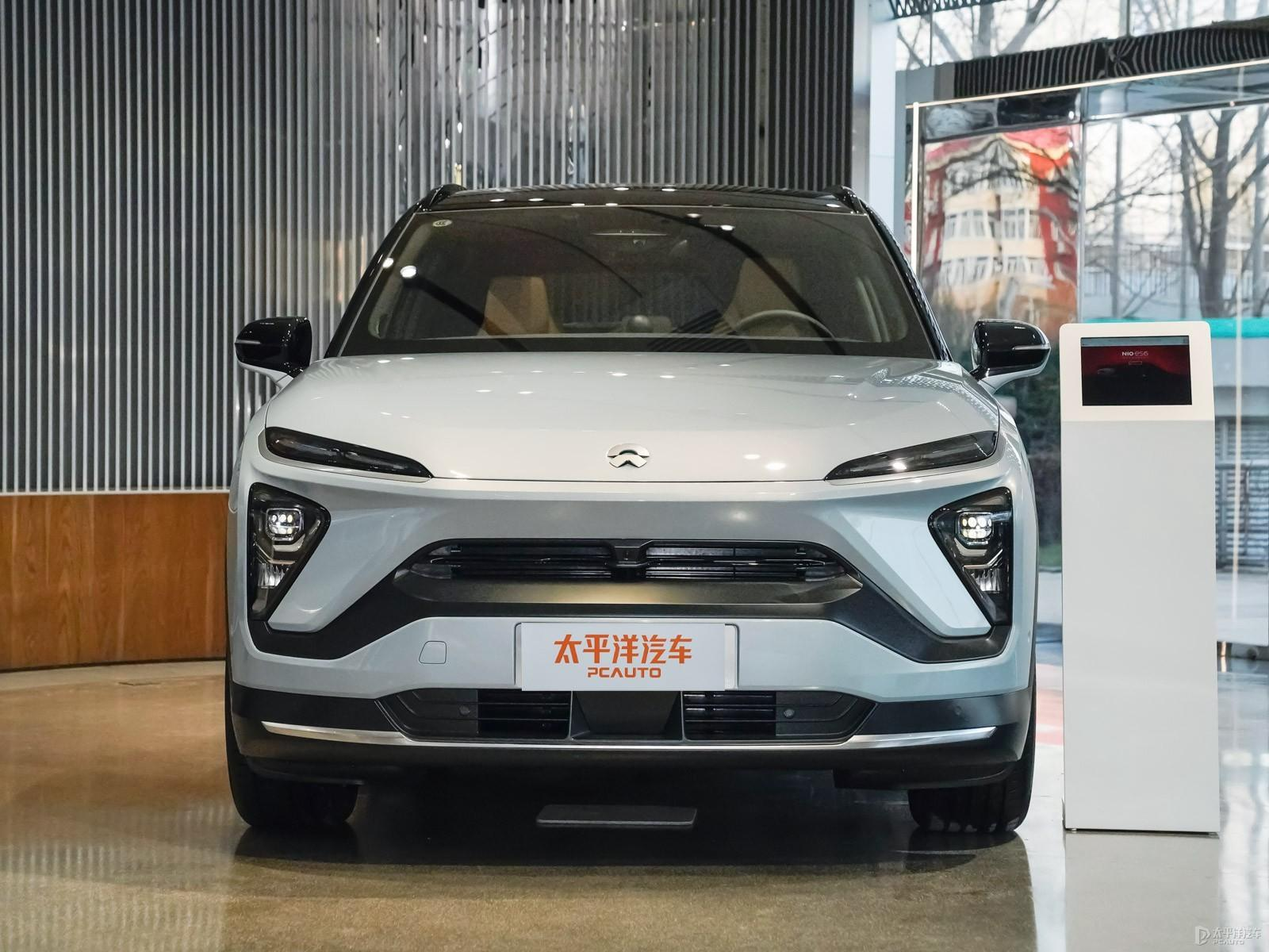NIO: (606, 443, 650, 469)
